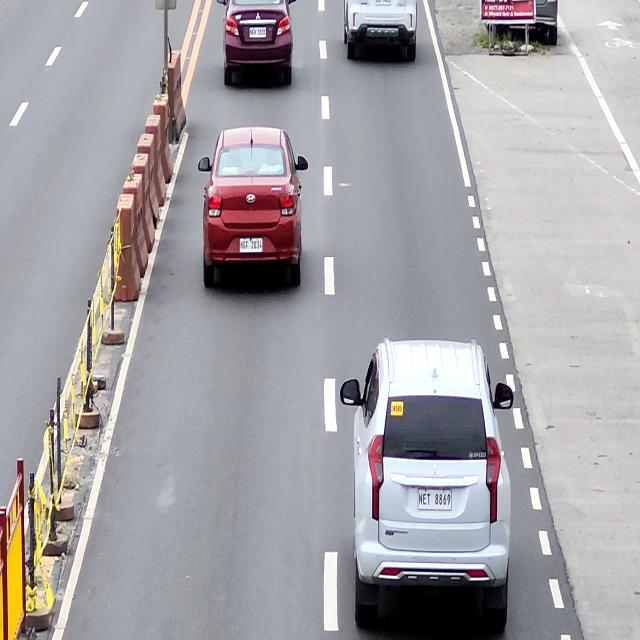Car: (342, 336, 514, 628), (198, 124, 308, 288), (215, 0, 299, 86), (344, 0, 418, 64)
License-Plate: (418, 489, 451, 511), (238, 238, 262, 252), (248, 28, 266, 38)
